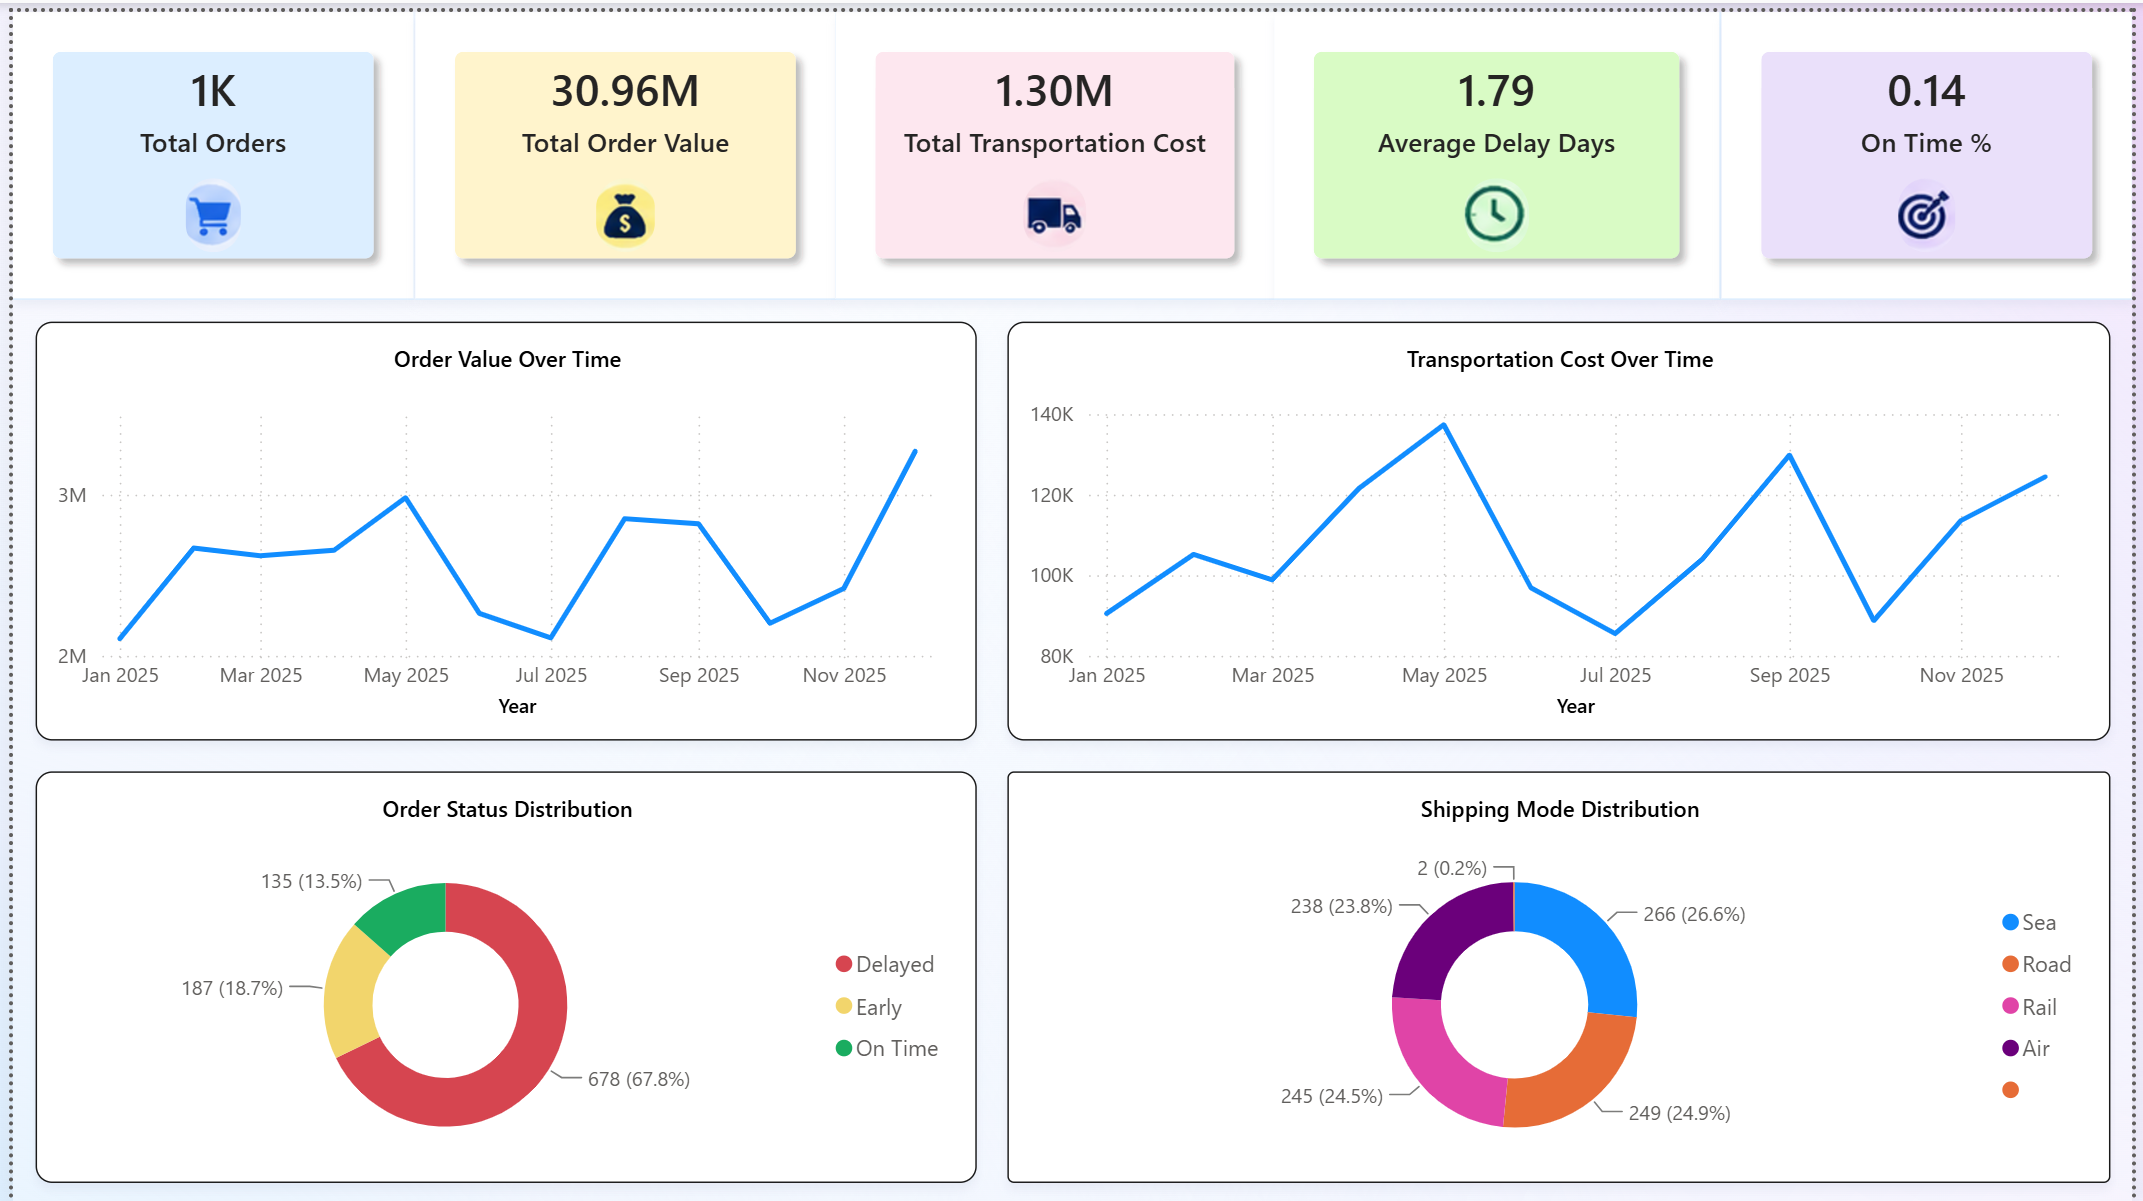

Layout of this report page (visuals, bound fields, positions):
{"tool":"powerbi","page":{"name":"Page 1","canvas":[1280,720],"ordinal":0},"visuals":[{"type":"donutChart","title":"Order Status Distribution","fields":{"Category":["preproDataset_supplyChain.Status"],"Y":["CountNonNull(preproDataset_supplyChain.Order_ID)"]},"box":[13.7,458.8,568.6,248.5],"z":0},{"type":"lineChart","title":"Transportation Cost Over Time","fields":{"Y":["Sum(preproDataset_supplyChain.Tran-Cost)"],"Category":["preproDataset_supplyChain.Order_Date.Variation.Date Hierarchy.Year","preproDataset_supplyChain.Order_Date.Variation.Date Hierarchy.Quarter","preproDataset_supplyChain.Order_Date.Variation.Date Hierarchy.Month"]},"box":[600.6,187.5,666.2,253],"z":1000},{"type":"cardVisual","fields":{"Data":["preproDataset_supplyChain.Total Orders"]},"box":[0,0,242.4,173.8],"z":2000},{"type":"cardVisual","fields":{"Data":["preproDataset_supplyChain.Total Order Value"]},"box":[242.4,0,254.6,173.8],"z":3000},{"type":"cardVisual","fields":{"Data":["preproDataset_supplyChain.Total Transportation Cost"]},"box":[496.9,0,265.2,173.8],"z":4000},{"type":"cardVisual","fields":{"Data":["preproDataset_supplyChain.Average Delay Days"]},"box":[762.2,0,269.8,173.8],"z":5000},{"type":"cardVisual","fields":{"Data":["preproDataset_supplyChain.On Time %"]},"box":[1032,0,248.5,173.8],"z":6000},{"type":"lineChart","title":"Order Value Over Time","fields":{"Category":["preproDataset_supplyChain.Order_Date.Variation.Date Hierarchy.Year","preproDataset_supplyChain.Order_Date.Variation.Date Hierarchy.Quarter","preproDataset_supplyChain.Order_Date.Variation.Date Hierarchy.Month"],"Y":["Sum(preproDataset_supplyChain.Order_Value)"]},"box":[13.7,187.5,568.6,253],"z":7000},{"type":"donutChart","title":"Shipping Mode Distribution","fields":{"Y":["CountNonNull(preproDataset_supplyChain.Order_ID)"],"Category":["preproDataset_supplyChain.Shipping_Mode"]},"box":[600.6,458.8,666.2,248.5],"z":8000}]}

Visuals, with their boxes in screenshot pixels (x1, y1, x2, y2), scaled from the page's 1280x720 canvas onto the 2143x1201 screenshot:
"Order Status Distribution" donutChart: <bbox>23, 765, 975, 1180</bbox>
"Transportation Cost Over Time" lineChart: <bbox>1006, 313, 2121, 735</bbox>
cardVisual - preproDataset_supplyChain.Total Orders: <bbox>0, 0, 406, 290</bbox>
cardVisual - preproDataset_supplyChain.Total Order Value: <bbox>406, 0, 832, 290</bbox>
cardVisual - preproDataset_supplyChain.Total Transportation Cost: <bbox>832, 0, 1276, 290</bbox>
cardVisual - preproDataset_supplyChain.Average Delay Days: <bbox>1276, 0, 1728, 290</bbox>
cardVisual - preproDataset_supplyChain.On Time %: <bbox>1728, 0, 2142, 290</bbox>
"Order Value Over Time" lineChart: <bbox>23, 313, 975, 735</bbox>
"Shipping Mode Distribution" donutChart: <bbox>1006, 765, 2121, 1180</bbox>
